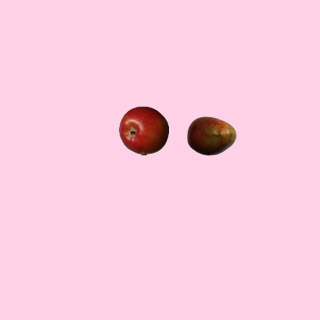Apple Braeburn: (118, 105, 168, 155)
Mango Red: (186, 110, 236, 160)
